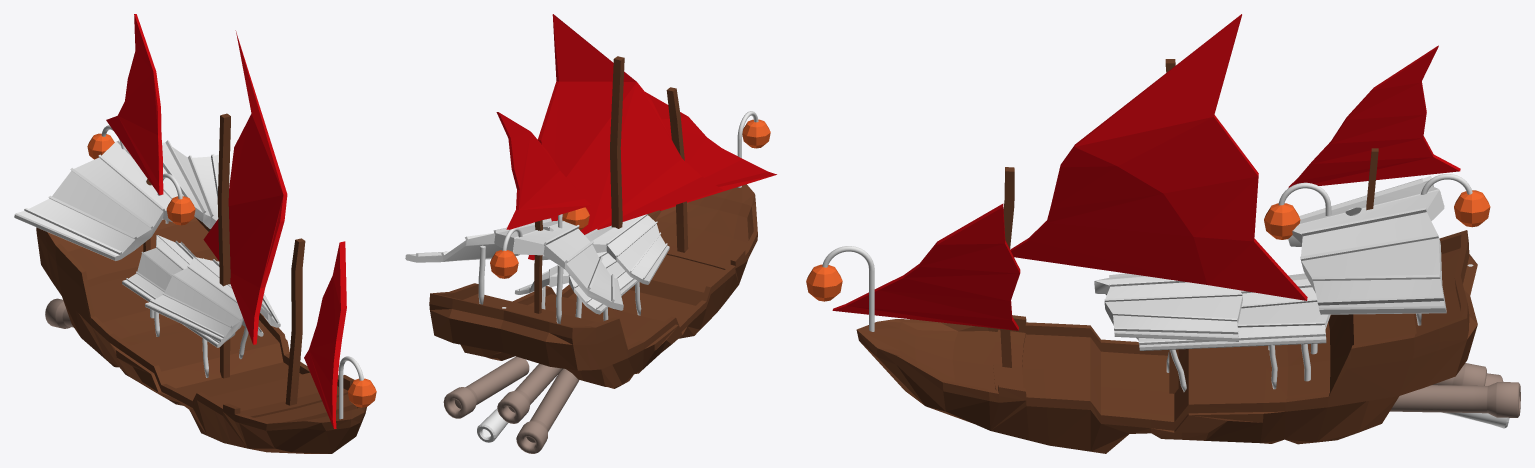
File: PlayerJunk.FBX
The picture shows the model from 3 angles, left to right: view 1: azimuth 30°, elevation 25°; view 2: azimuth 150°, elevation 25°; view 3: azimuth 270°, elevation 25°; orthographic projection. The views are drawn at different scales.
Visible parts, largest first — view 1: coque, Box008, Box004, Box003, Box001, pCube2, pCube3, Sphere002, Sphere001, Cylinder016, Sphere003, Cylinder018; view 2: coque, Box008, Box004, Box003, Cylinder009, Cylinder016, pCube2, Cylinder013, Box001, pCube3, Sphere003, Sphere001 (+3 smaller); view 3: Box008, coque, Box004, Box003, Box001, Cylinder009, pCube3, Sphere001, Sphere003, Sphere002, Cylinder018, Cylinder013.
Part boxes in pixels (bbox=[...]): coque: bbox=[36, 216, 366, 453]; Box008: bbox=[106, 14, 346, 428]; Box004: bbox=[14, 140, 218, 260]; Box003: bbox=[145, 257, 280, 342]; Box001: bbox=[122, 235, 263, 347]; pCube2: bbox=[217, 113, 230, 378]; pCube3: bbox=[285, 238, 305, 405]; Sphere002: bbox=[166, 196, 195, 225]; Sphere001: bbox=[347, 378, 376, 407]; Cylinder016: bbox=[45, 298, 73, 328]; Sphere003: bbox=[87, 133, 114, 159]; Cylinder018: bbox=[339, 356, 363, 419]; coque: bbox=[429, 184, 757, 388]; Box008: bbox=[496, 14, 776, 260]; Box004: bbox=[405, 218, 623, 310]; Box003: bbox=[542, 214, 669, 284]; Cylinder009: bbox=[443, 356, 529, 418]; Cylinder016: bbox=[516, 368, 579, 453]; pCube2: bbox=[610, 56, 624, 311]; Cylinder013: bbox=[497, 363, 562, 423]; Box001: bbox=[515, 252, 638, 314]; pCube3: bbox=[666, 87, 688, 252]; Sphere003: bbox=[490, 250, 518, 278]; Sphere001: bbox=[742, 119, 770, 148]; Box008: bbox=[832, 14, 1460, 330]; coque: bbox=[856, 230, 1477, 453]; Box004: bbox=[1288, 176, 1446, 314]; Box003: bbox=[1094, 273, 1242, 341]; Box001: bbox=[1136, 273, 1330, 350]; Cylinder009: bbox=[1390, 382, 1520, 417]; pCube3: bbox=[1000, 167, 1014, 367]; Sphere001: bbox=[806, 264, 842, 301]; Sphere003: bbox=[1454, 190, 1490, 227]; Sphere002: bbox=[1264, 203, 1300, 239]; Cylinder018: bbox=[822, 246, 874, 331]; Cylinder013: bbox=[1433, 363, 1486, 385].
Bounding box in the file's own units: 0.0823 × 0.1303 × 0.1893.
